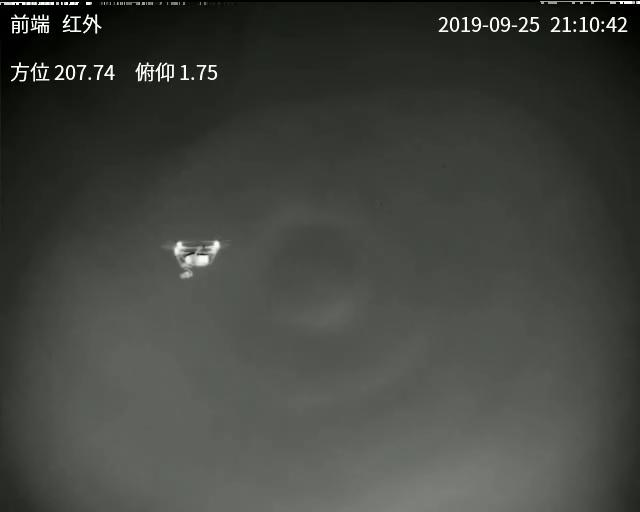uav: (168, 234, 223, 282)
